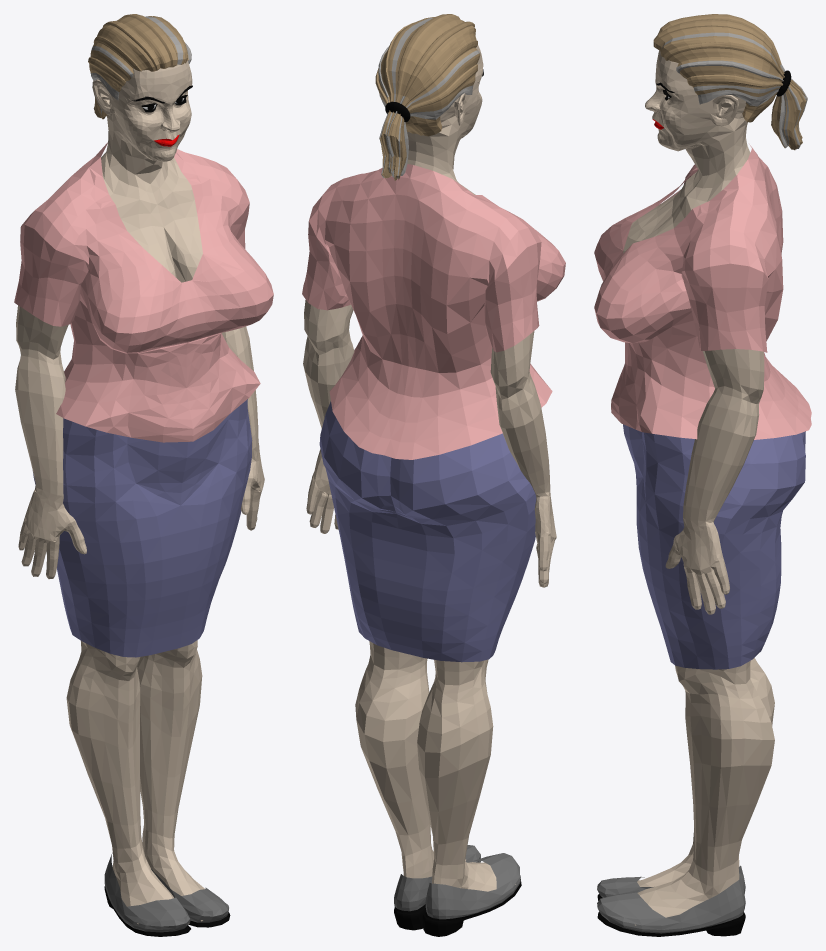
File: sweethome3d-katorlegaz-female-61.glb
3 renders of one model, left to right at view 1: azimuth 30°, elevation 25°; view 2: azimuth 150°, elevation 25°; view 3: azimuth 270°, elevation 25°, orthographic. The views are drawn at different scales.
Visible parts, largest first — view 1: Stephanie_Stephanie_skin, Steph_shirt, Steph_skirt, Steph_hair_Steph_hair_hair, Steph_shoe_R_Steph_shoe_R_shoe_leather, Steph_shoe_L_Steph_shoe_L_shoe_leather, Steph_hair_Steph_hair_hair_grey; view 2: Steph_shirt, Stephanie_Stephanie_skin, Steph_skirt, Steph_hair_Steph_hair_hair, Steph_shoe_R_Steph_shoe_R_shoe_leather, Steph_hair_Steph_hair_hair_grey, Steph_shoe_L_Steph_shoe_L_shoe_leather, Steph_shoe_R_Steph_shoe_R_shadeless_black.001, Steph_shoe_L_Steph_shoe_L_shadeless_black.001; view 3: Stephanie_Stephanie_skin, Steph_shirt, Steph_skirt, Steph_hair_Steph_hair_hair, Steph_shoe_L_Steph_shoe_L_shoe_leather, Steph_hair_Steph_hair_hair_grey, Steph_shoe_L_Steph_shoe_L_shadeless_black.001, Steph_shoe_R_Steph_shoe_R_shoe_leather.
Part boxes in pixels (x1,y1,x2,y2): Stephanie_Stephanie_skin: [15, 60, 264, 924]; Steph_shirt: [14, 142, 273, 442]; Steph_skirt: [33, 399, 252, 657]; Steph_hair_Steph_hair_hair: [88, 14, 188, 119]; Steph_shoe_R_Steph_shoe_R_shoe_leather: [104, 853, 190, 932]; Steph_shoe_L_Steph_shoe_L_shoe_leather: [151, 869, 228, 922]; Steph_hair_Steph_hair_hair_grey: [90, 16, 191, 114]; Steph_shirt: [302, 164, 565, 459]; Stephanie_Stephanie_skin: [303, 45, 556, 891]; Steph_skirt: [319, 401, 536, 662]; Steph_hair_Steph_hair_hair: [375, 14, 480, 180]; Steph_shoe_R_Steph_shoe_R_shoe_leather: [425, 853, 520, 919]; Steph_hair_Steph_hair_hair_grey: [378, 17, 479, 178]; Steph_shoe_L_Steph_shoe_L_shoe_leather: [394, 845, 480, 911]; Steph_shoe_R_Steph_shoe_R_shadeless_black.001: [422, 875, 521, 936]; Steph_shoe_L_Steph_shoe_L_shadeless_black.001: [394, 904, 426, 930]; Stephanie_Stephanie_skin: [623, 50, 774, 925]; Steph_shirt: [594, 144, 811, 439]; Steph_skirt: [623, 424, 805, 669]; Steph_hair_Steph_hair_hair: [653, 14, 806, 150]; Steph_shoe_L_Steph_shoe_L_shoe_leather: [597, 878, 745, 933]; Steph_hair_Steph_hair_hair_grey: [662, 32, 807, 148]; Steph_shoe_L_Steph_shoe_L_shadeless_black.001: [597, 912, 745, 936]; Steph_shoe_R_Steph_shoe_R_shoe_leather: [597, 865, 745, 897].
Size of the model in its own units: 3.16 by 11.32 by 2.47.
